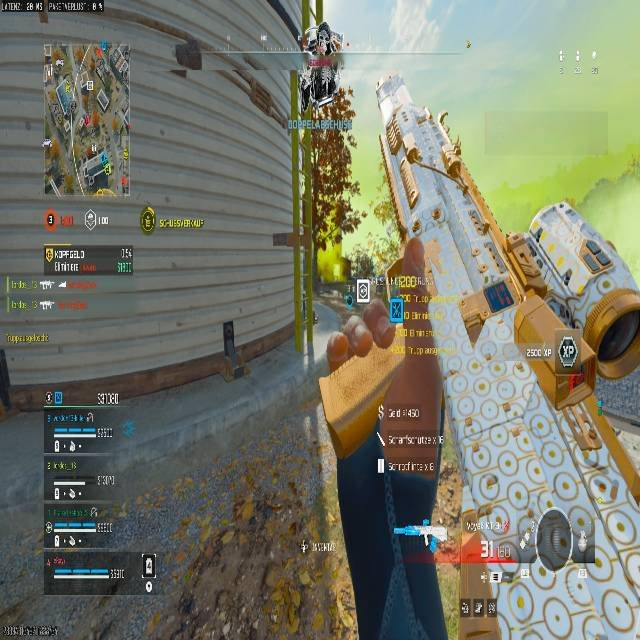head: (363, 299, 396, 349)
player: (327, 187, 639, 639), (299, 19, 343, 105)
